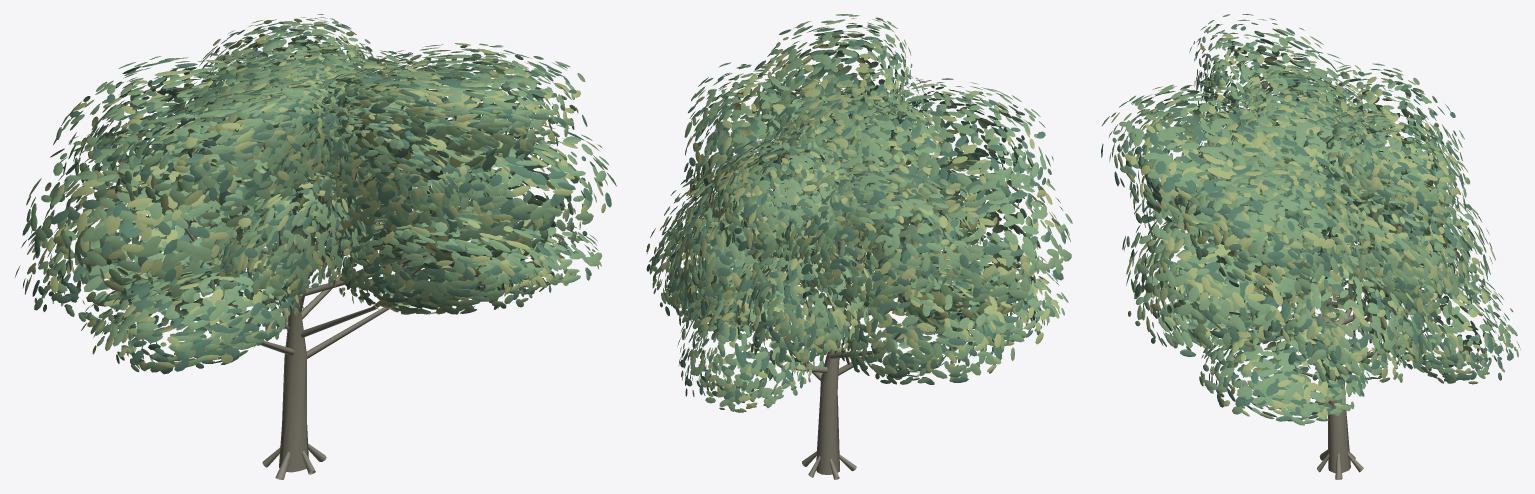
Rendered from grove_0.glb.
The picture shows the model from 3 angles, left to right: view 1: azimuth 30°, elevation 25°; view 2: azimuth 150°, elevation 25°; view 3: azimuth 270°, elevation 25°; orthographic projection. The views are drawn at different scales.
Parts seen in each view (by area): view 1: study_canopy_0_StudyLeafJade, study_canopy_0_StudyLeafDeep, study_canopy_0_StudyLeafGold, study_canopy_0_StudyBark; view 2: study_canopy_0_StudyLeafJade, study_canopy_0_StudyLeafDeep, study_canopy_0_StudyLeafGold, study_canopy_0_StudyBark; view 3: study_canopy_0_StudyLeafJade, study_canopy_0_StudyLeafDeep, study_canopy_0_StudyLeafGold, study_canopy_0_StudyBark.
Boxes of the visible parts, left/top/right/bottom form: study_canopy_0_StudyLeafJade: left=15, top=17, right=616, bottom=372; study_canopy_0_StudyLeafDeep: left=28, top=14, right=611, bottom=374; study_canopy_0_StudyLeafGold: left=24, top=17, right=605, bottom=371; study_canopy_0_StudyBark: left=170, top=111, right=470, bottom=479; study_canopy_0_StudyLeafJade: left=649, top=14, right=1072, bottom=412; study_canopy_0_StudyLeafDeep: left=646, top=21, right=1068, bottom=407; study_canopy_0_StudyLeafGold: left=646, top=19, right=1070, bottom=411; study_canopy_0_StudyBark: left=733, top=90, right=960, bottom=479; study_canopy_0_StudyLeafJade: left=1102, top=14, right=1520, bottom=425; study_canopy_0_StudyLeafDeep: left=1101, top=14, right=1513, bottom=421; study_canopy_0_StudyLeafGold: left=1109, top=19, right=1510, bottom=420; study_canopy_0_StudyBark: left=1200, top=109, right=1438, bottom=479.
Size of the model in its own units: 13.53 by 11.18 by 10.86.
